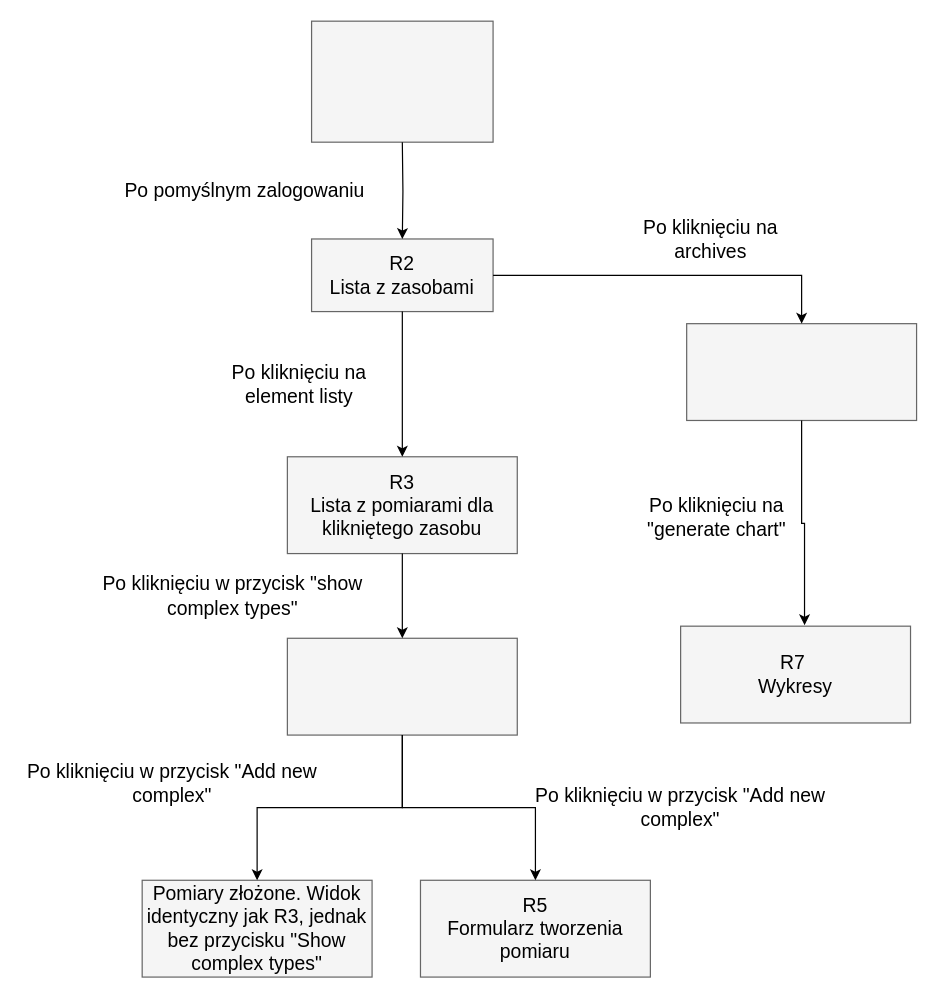
The diagram is 938 pixels wide and 998 high, and some of its shapes have lost their labels. The shapes that lost their labels are listed below. From the top down, each one's centre as x and y in pixels, then its label:
[401,81]: R1 Wybór monitora i logowanie/ rejestracja
[801,371]: R6 Wybór zasobów
[401,686]: R4 Pomiary złożone
